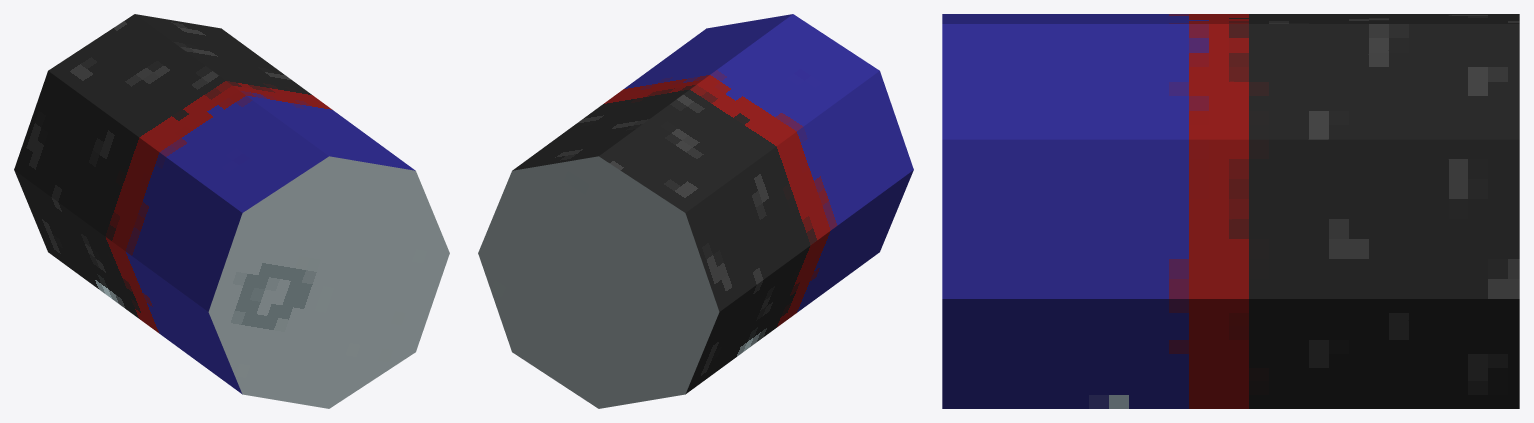
File: beans.fbx
The picture shows the model from 3 angles, left to right: view 1: azimuth 30°, elevation 25°; view 2: azimuth 150°, elevation 25°; view 3: azimuth 270°, elevation 25°; orthographic projection. The views are drawn at different scales.
Visible parts, largest first — view 1: Cube; view 2: Cube; view 3: Cube.
Part boxes in pixels (x1,y1,x2,y2): Cube: (14,14,449,408); Cube: (478,14,913,408); Cube: (942,14,1519,408).
Bounding box in the file's own units: 200 × 200 × 279.
1 material, 1 textured.
